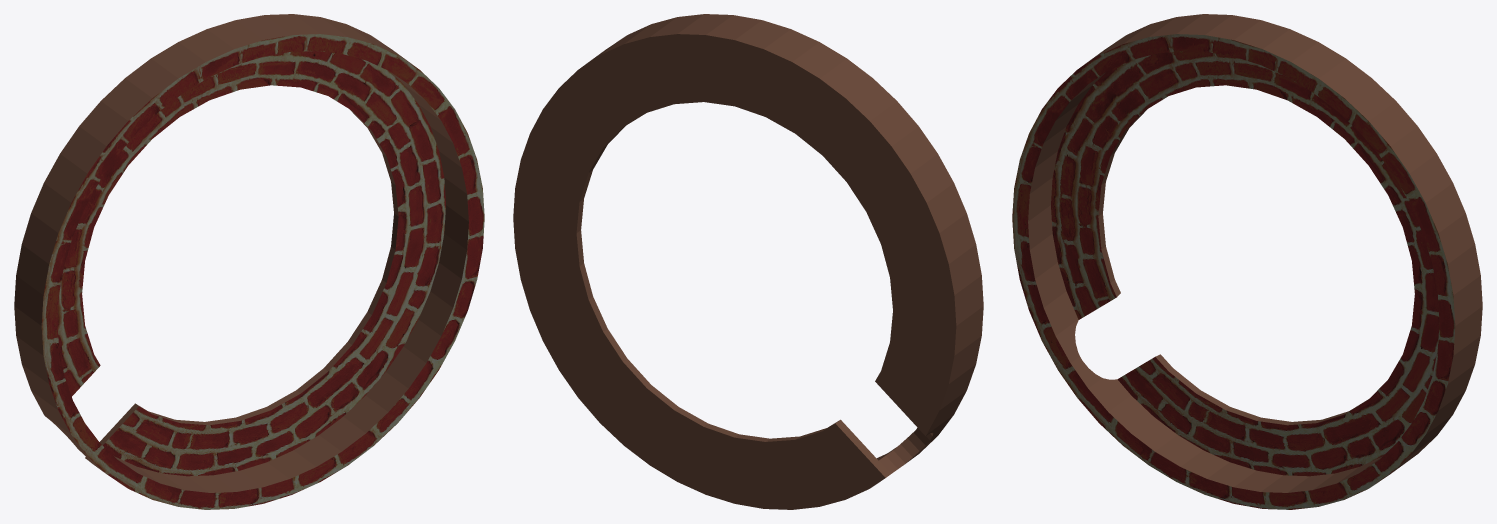
File: pool_002.obj
The picture shows the model from 3 angles, left to right: view 1: azimuth 30°, elevation 25°; view 2: azimuth 150°, elevation 25°; view 3: azimuth 330°, elevation 25°; orthographic projection.
Size of the model in its own units: 28 by 28 by 3.
Materials: 1 (1 with a texture image).
